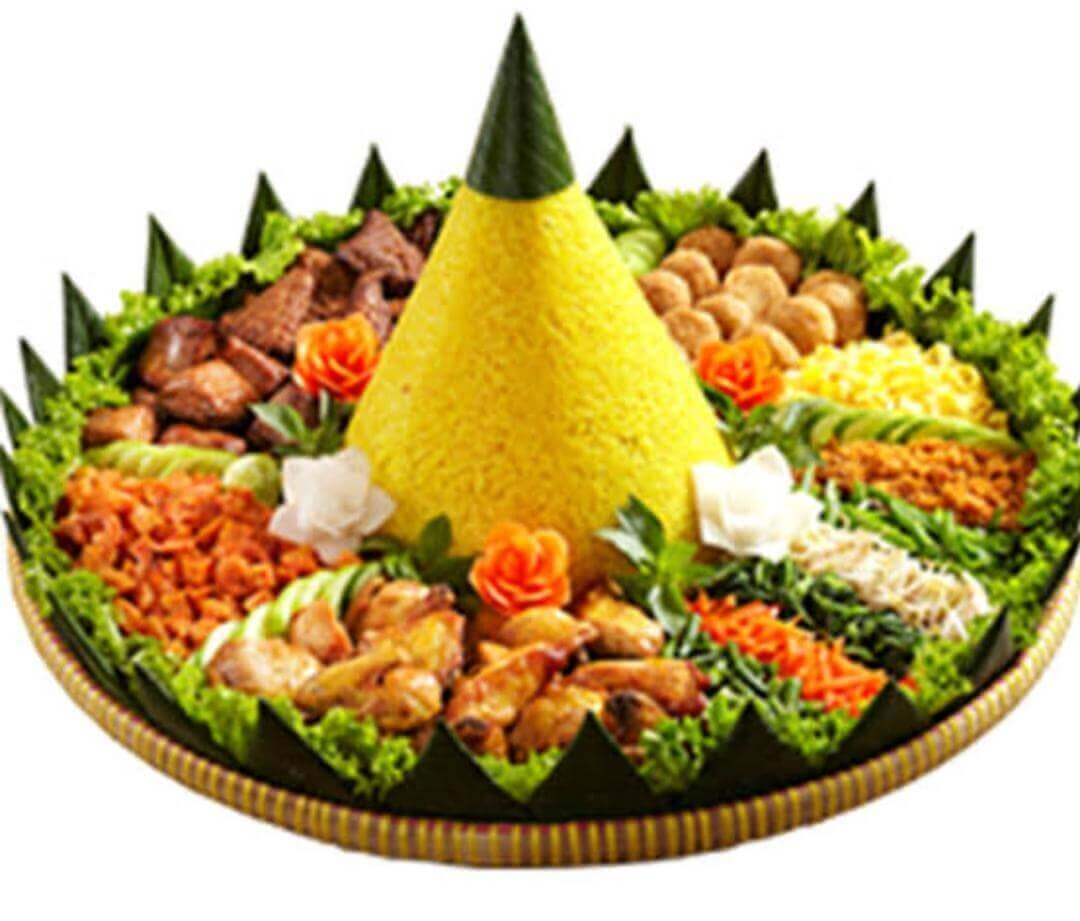nasi_tumpeng: (41, 11, 1033, 760)
